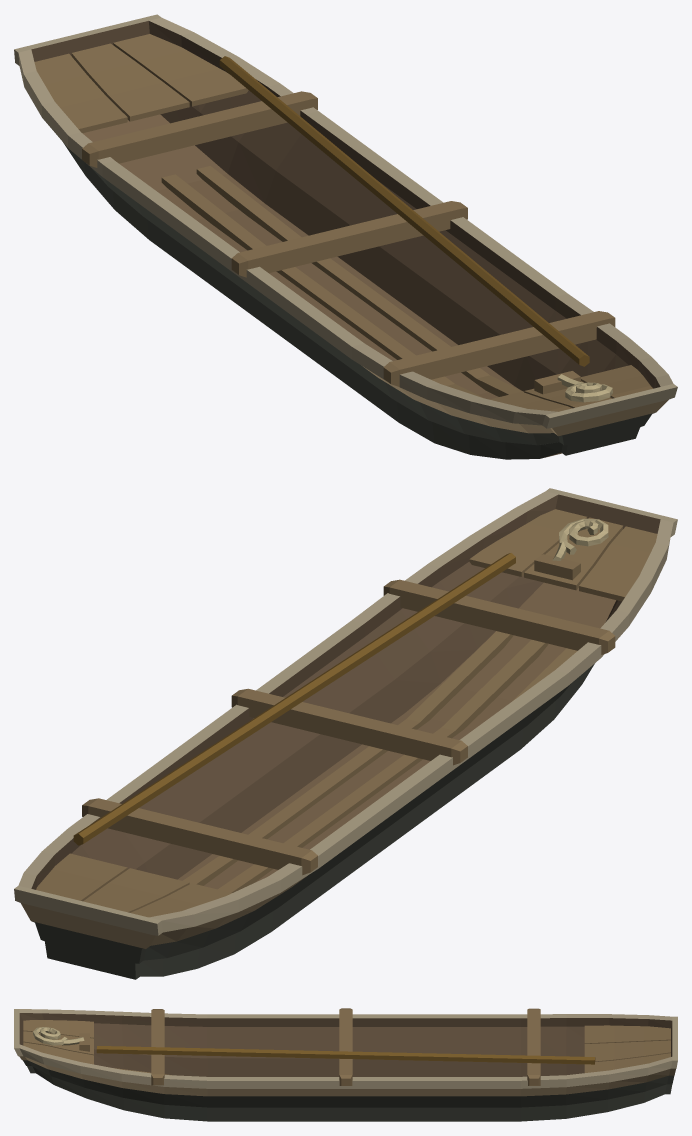
The model's file is flat-river-boat-6bac37.glb.
The picture shows the model from 3 angles, top to bottom: view 1: azimuth 30°, elevation 25°; view 2: azimuth 150°, elevation 25°; view 3: azimuth 270°, elevation 25°; orthographic projection. The views are drawn at different scales.
Parts seen in each view (by area): view 1: hull, pole-mesh, rope-coil-mesh; view 2: hull, pole-mesh, rope-coil-mesh; view 3: hull, pole-mesh, rope-coil-mesh.
Boxes of the visible parts, left/top/right/bottom form: hull: left=14, top=14, right=677, bottom=459; pole-mesh: left=219, top=56, right=589, bottom=366; rope-coil-mesh: left=557, top=374, right=612, bottom=402; hull: left=14, top=488, right=677, bottom=979; pole-mesh: left=73, top=553, right=515, bottom=845; rope-coil-mesh: left=552, top=518, right=608, bottom=560; hull: left=14, top=1008, right=677, bottom=1121; pole-mesh: left=96, top=1046, right=595, bottom=1064; rope-coil-mesh: left=33, top=1027, right=84, bottom=1045.
Bounding box in the file's own units: 1.5 × 0.74 × 6.
